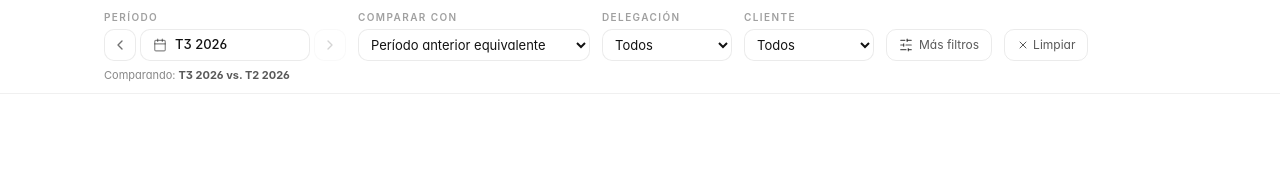
Scenario: OpsFiltersBar — carga de opciones maestras (blindaje d.familias.map) › degrada a lista vacía si el payload viene malformado, sin romper la barra
Click the button "Más filtros" at (939, 45), box x1=886 y1=29 x2=992 y2=61
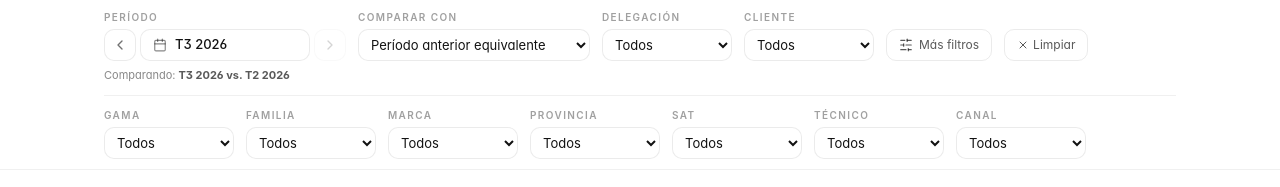
Result: the dropdown labelled "Gama" shows "Todos" at x1=104 y1=127 x2=234 y2=159
Result: the dropdown labelled "Familia" shows "Todos" at x1=246 y1=127 x2=376 y2=159
Result: the dropdown labelled "Marca" shows "Todos" at x1=388 y1=127 x2=518 y2=159
